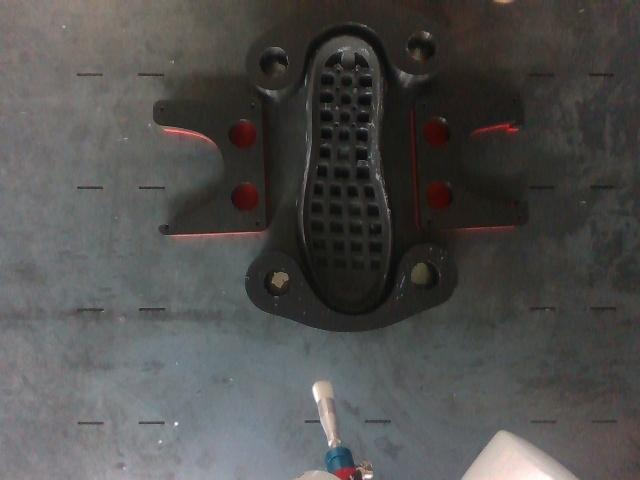shoes: (302, 36, 388, 311)
